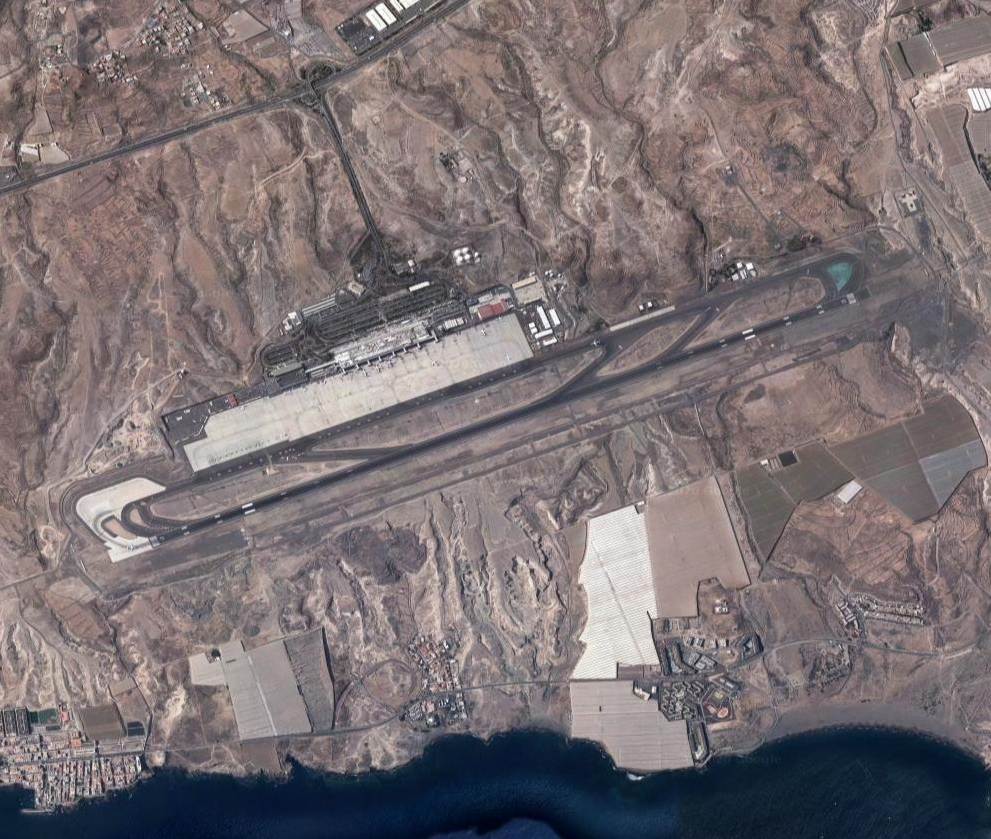airport: (73, 247, 875, 567)
harbor: (5, 734, 145, 824)
motorway: (1, 145, 145, 196), (278, 39, 389, 105), (144, 94, 281, 147), (386, 1, 467, 50), (306, 104, 360, 173), (332, 174, 386, 242)
